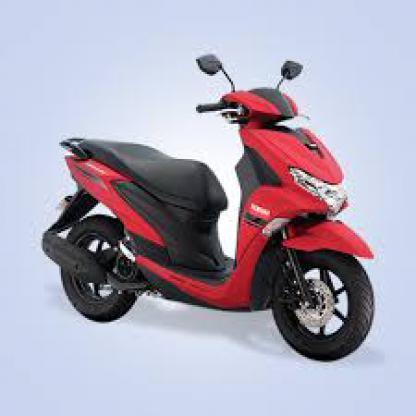Motorcycle: (54, 49, 388, 361)
